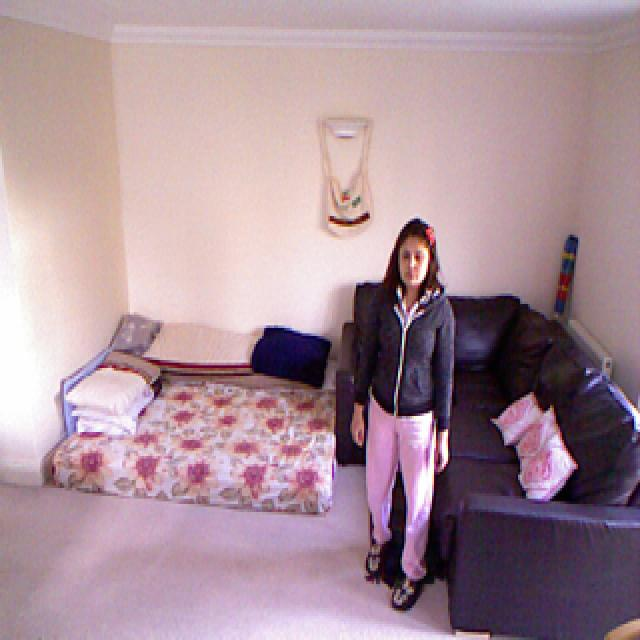standing: (350, 206, 455, 616)
